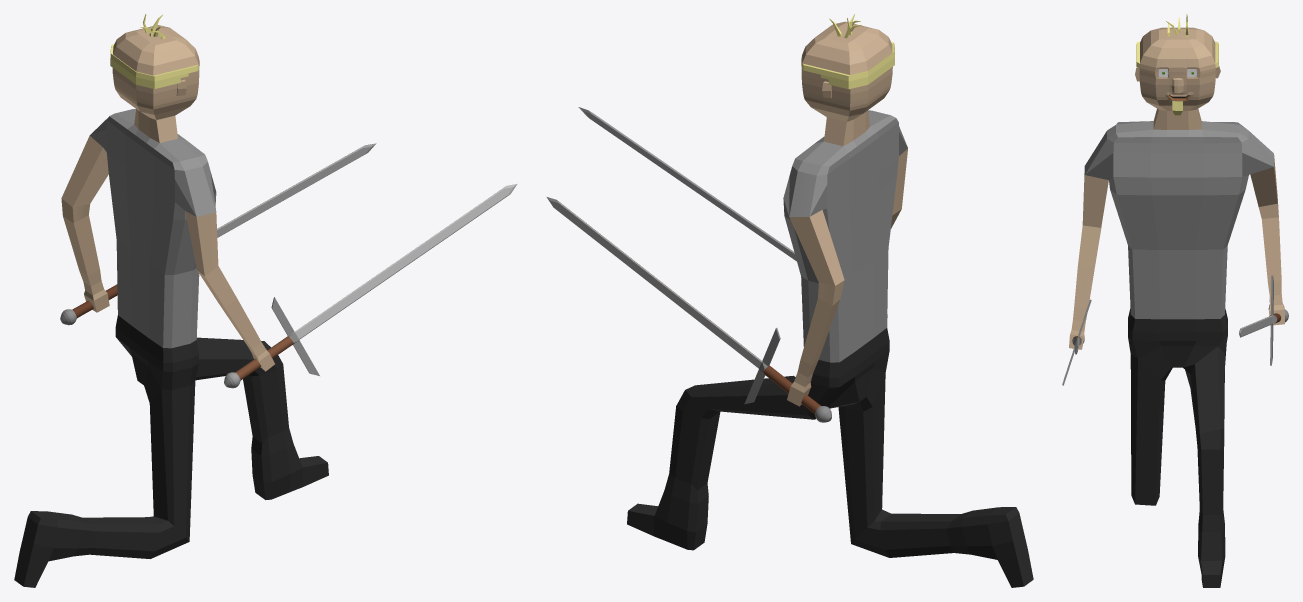
File: Personnage2.fbx
3 views of the same model, side by side, from view 1: azimuth 30°, elevation 25°; view 2: azimuth 150°, elevation 25°; view 3: azimuth 270°, elevation 25° (orthographic). The views are drawn at different scales.
Visible parts, largest first — view 1: Cube, Cylinder, Cylinder.001; view 2: Cube, Cylinder.001, Cylinder; view 3: Cube, Cylinder.001, Cylinder.
Boxes of the visible parts, left/top/right/bottom form: Cube: left=14, top=14, right=328, bottom=587; Cylinder: left=224, top=183, right=517, bottom=388; Cylinder.001: left=60, top=143, right=376, bottom=325; Cube: left=627, top=14, right=1033, bottom=587; Cylinder.001: left=546, top=197, right=831, bottom=422; Cylinder: left=578, top=107, right=887, bottom=317; Cube: left=1069, top=14, right=1284, bottom=587; Cylinder.001: left=1239, top=275, right=1288, bottom=365; Cylinder: left=1062, top=299, right=1091, bottom=385.
Bounding box in the file's own units: 1791 × 1935 × 805.
